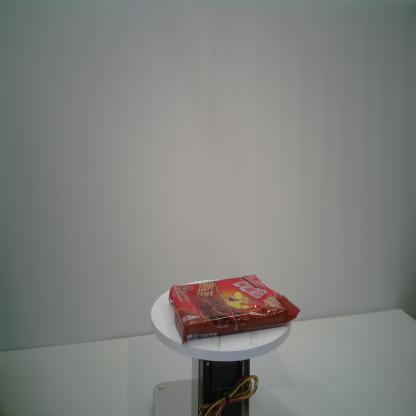Dessert: (168, 273, 301, 345)
